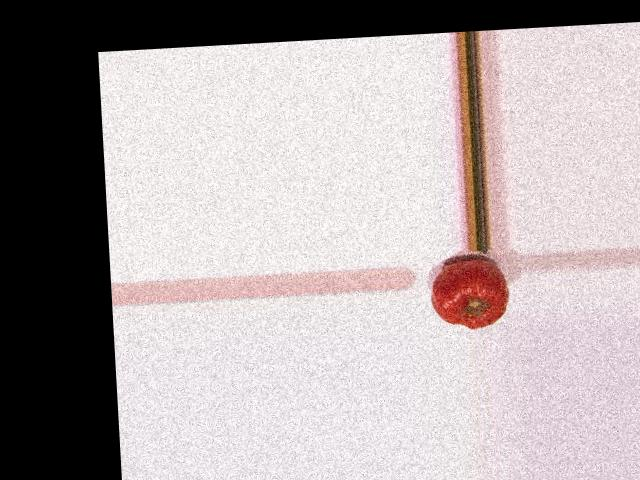tomato: (430, 258, 509, 330)
